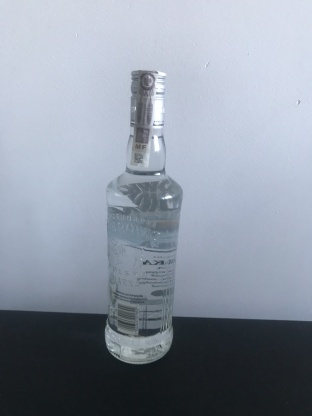nakretka: (128, 65, 168, 131)
